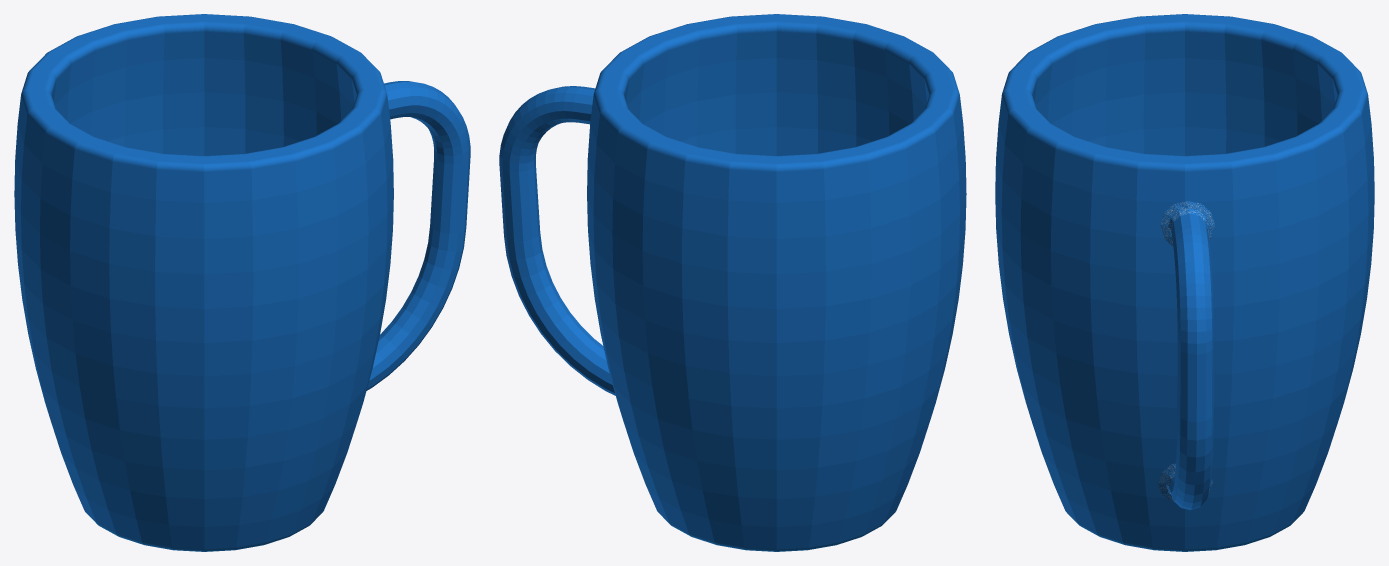
The picture shows the model from 3 angles, left to right: view 1: azimuth 30°, elevation 25°; view 2: azimuth 150°, elevation 25°; view 3: azimuth 270°, elevation 25°; orthographic projection.
Parts seen in each view (by area): view 1: mesh1_mesh1-geometry; view 2: mesh1_mesh1-geometry; view 3: mesh1_mesh1-geometry.
Part boxes in pixels (x1,y1,x2,y2): mesh1_mesh1-geometry: (14, 14, 470, 551); mesh1_mesh1-geometry: (499, 14, 966, 551); mesh1_mesh1-geometry: (995, 14, 1374, 551).
Bounding box in the file's own units: 0.645 × 0.5875 × 0.4888.
